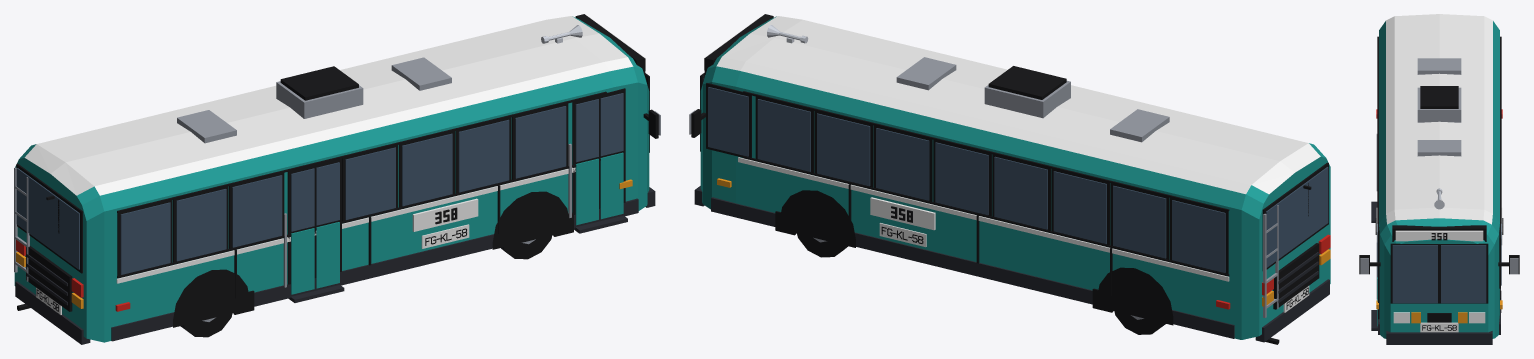
The model's file is micro_turquesa.obj.
The picture shows the model from 3 angles, left to right: view 1: azimuth 30°, elevation 25°; view 2: azimuth 150°, elevation 25°; view 3: azimuth 270°, elevation 25°; orthographic projection. The views are drawn at different scales.
Parts seen in each view (by area): view 1: micro_turquesa; view 2: micro_turquesa; view 3: micro_turquesa.
Part boxes in pixels (bbox=[...]): micro_turquesa: bbox=[14, 14, 660, 344]; micro_turquesa: bbox=[689, 14, 1330, 344]; micro_turquesa: bbox=[1359, 14, 1519, 344].
Size of the model in its own units: 10.8 by 3.43 by 3.32.
